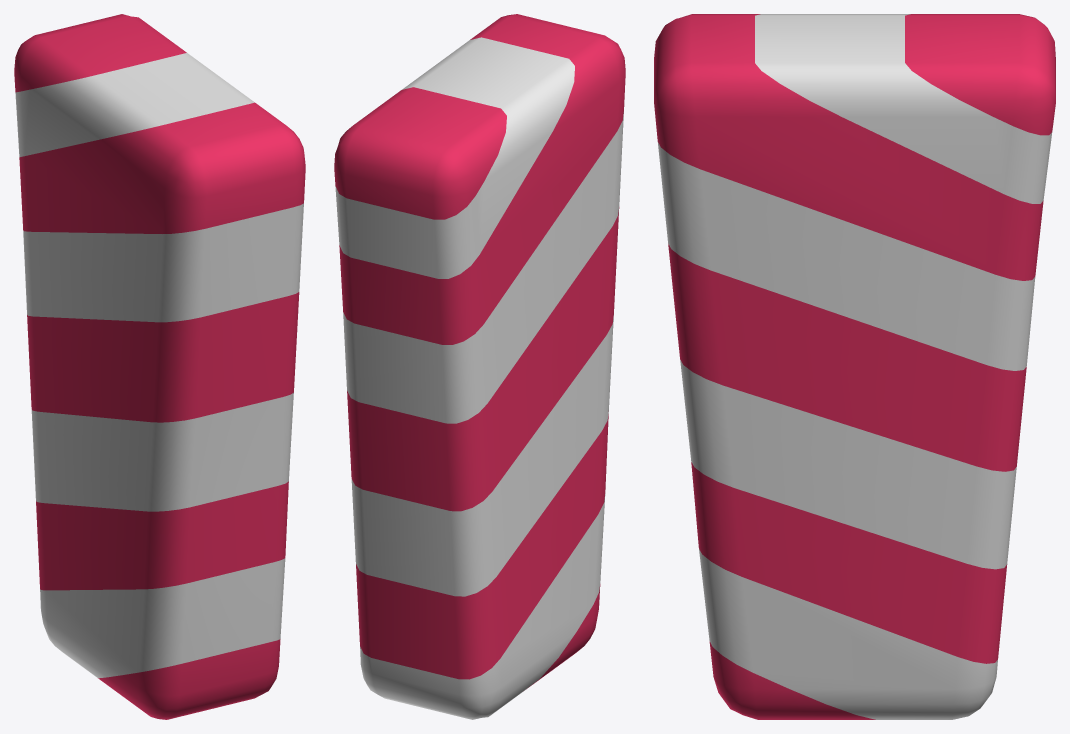
The model's file is Sweet_2.fbx.
3 views of the same model, side by side, from view 1: azimuth 30°, elevation 25°; view 2: azimuth 150°, elevation 25°; view 3: azimuth 270°, elevation 25° (orthographic). The views are drawn at different scales.
Parts seen in each view (by area): view 1: Sweet_2; view 2: Sweet_2; view 3: Sweet_2.
Boxes of the visible parts, <box> form: Sweet_2: <box>14,14,305,719</box>; Sweet_2: <box>334,14,625,719</box>; Sweet_2: <box>654,14,1055,719</box>.
Bounding box in the file's own units: 11.78 × 49.63 × 27.57.
